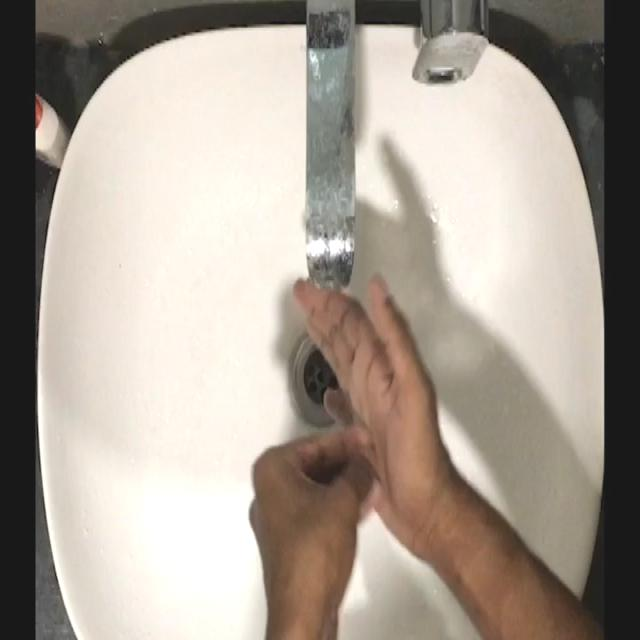step_6: (238, 265, 442, 619)
